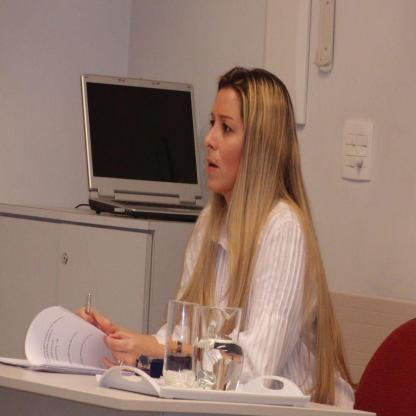board: (81, 73, 198, 207)
